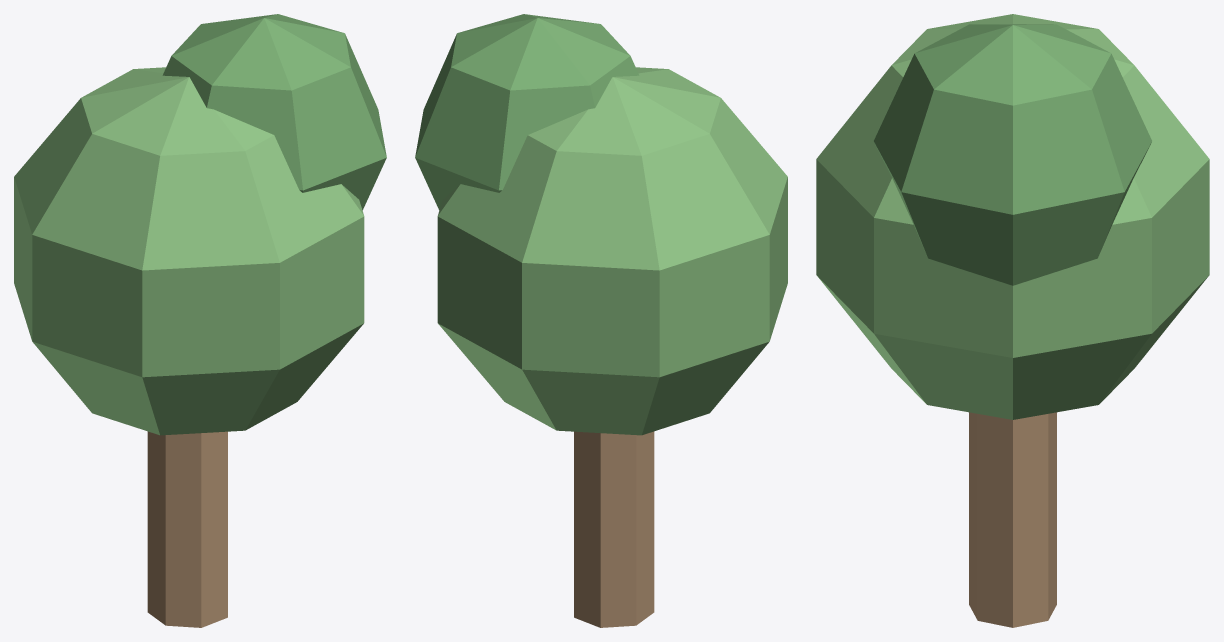
File: arbol.glb
3 renders of one model, left to right at view 1: azimuth 30°, elevation 25°; view 2: azimuth 150°, elevation 25°; view 3: azimuth 270°, elevation 25°, orthographic. The views are drawn at different scales.
Visible parts, largest first — view 1: arbol; view 2: arbol; view 3: arbol.
Part boxes in pixels (left/top/right/bottom): arbol: left=14, top=14, right=386, bottom=627; arbol: left=415, top=14, right=787, bottom=627; arbol: left=816, top=14, right=1209, bottom=627.
Size of the model in its own units: 1.15 by 1.83 by 1.05.
